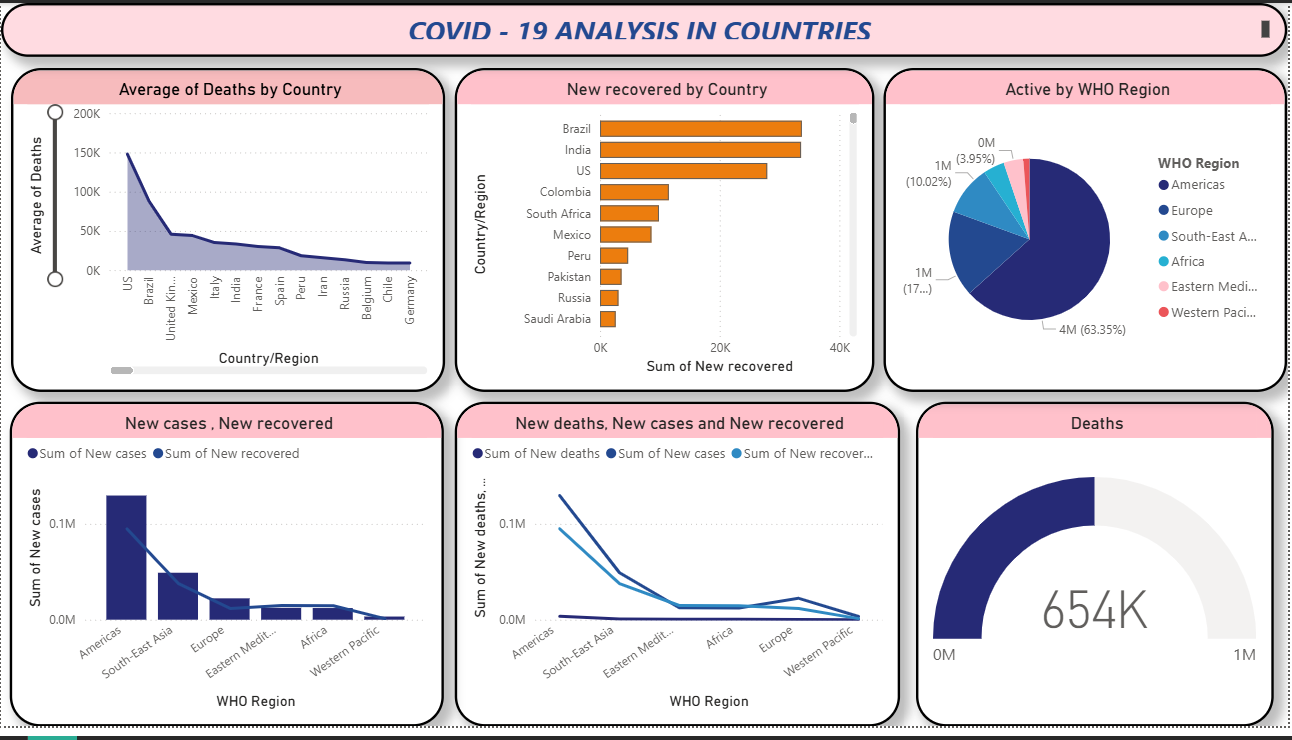

This screenshot's page, from the dashboard's own definition file:
{"tool":"powerbi","page":{"name":"Page 1","canvas":[1280,720],"ordinal":0},"visuals":[{"type":"stackedAreaChart","title":"Average of Deaths by Country","fields":{"Category":["country_wise_latest.Country/Region"],"Y":["Avg(country_wise_latest.Deaths)"]},"box":[10,64.7,431.7,322.2],"z":0},{"type":"lineClusteredColumnComboChart","title":"New cases , New recovered","fields":{"Category":["country_wise_latest.WHO Region"],"Y":["Sum(country_wise_latest.New cases)"],"Y2":["Sum(country_wise_latest.New recovered)"]},"box":[8.7,396.8,431.7,323.4],"z":1000},{"type":"clusteredBarChart","title":"New recovered by Country","fields":{"Category":["country_wise_latest.Country/Region"],"Y":["Sum(country_wise_latest.New recovered)"]},"box":[451.6,64.7,418,322.2],"z":2000},{"type":"lineChart","title":"New deaths, New cases and New recovered ","fields":{"Category":["country_wise_latest.WHO Region"],"Y":["Sum(country_wise_latest.New deaths)","Sum(country_wise_latest.New cases)","Sum(country_wise_latest.New recovered)"]},"box":[451.6,396.8,442.8,323.4],"z":3000},{"type":"gauge","title":"Deaths","fields":{"Y":["Sum(country_wise_latest.Deaths)"]},"box":[910.6,396.8,355.8,323.4],"z":4000},{"type":"textbox","box":[0,0,1280,53.5],"z":5000},{"type":"pieChart","title":"Active by WHO Region","fields":{"Y":["Sum(country_wise_latest.Active)"],"Category":["country_wise_latest.WHO Region"]},"box":[878.2,64.7,401.8,322.2],"z":6000}]}

Visuals, with their boxes in screenshot pixels (x1, y1, x2, y2), scaled from the page's 1280x720 canvas onto the 1292x740 screenshot:
"Average of Deaths by Country" stackedAreaChart: [x1=10, y1=66, x2=446, y2=398]
"New cases , New recovered" lineClusteredColumnComboChart: [x1=9, y1=408, x2=445, y2=739]
"New recovered by Country" clusteredBarChart: [x1=456, y1=66, x2=878, y2=398]
"New deaths, New cases and New recovered " lineChart: [x1=456, y1=408, x2=903, y2=739]
"Deaths" gauge: [x1=919, y1=408, x2=1278, y2=739]
textbox: [x1=0, y1=0, x2=1291, y2=55]
"Active by WHO Region" pieChart: [x1=886, y1=66, x2=1291, y2=398]
